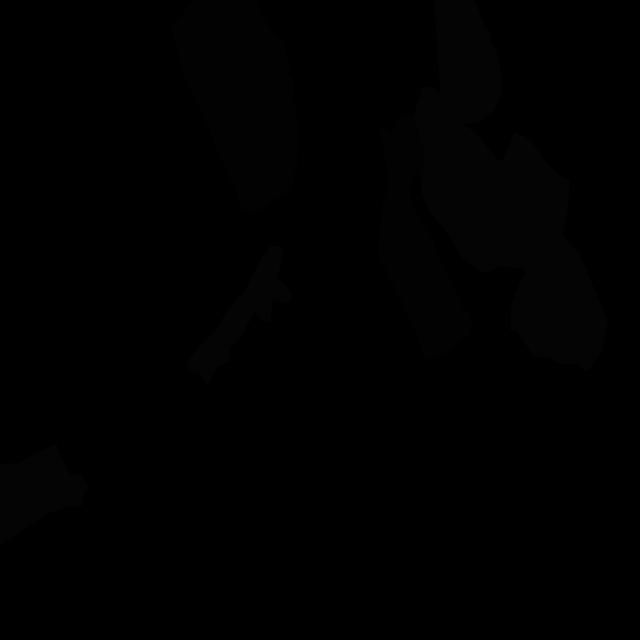cardboard: (172, 0, 298, 212), (378, 114, 474, 360)
soft_plastic: (414, 86, 608, 372), (186, 245, 290, 385), (0, 444, 90, 546), (434, 0, 502, 125)
